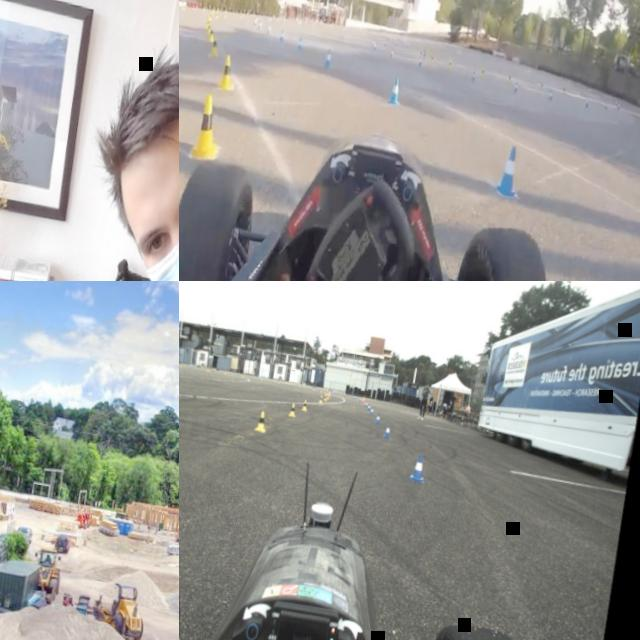Mask: (132, 134, 179, 281)
NO-Hardhat: (100, 32, 179, 191), (465, 401, 468, 404), (425, 381, 428, 384), (452, 391, 454, 394), (444, 399, 446, 402), (440, 403, 442, 406)
NO-Safety Vest: (421, 386, 428, 398), (465, 406, 470, 413), (451, 396, 455, 404), (449, 402, 453, 409)
Person: (0, 25, 179, 281), (417, 379, 431, 420), (459, 400, 471, 424), (441, 398, 454, 419), (437, 402, 444, 413), (450, 392, 456, 404), (426, 399, 431, 413), (442, 399, 447, 407)
Safety Cone: (189, 91, 224, 162), (491, 139, 528, 205), (214, 52, 238, 98), (385, 70, 405, 108), (408, 451, 428, 482), (321, 45, 334, 73), (253, 409, 268, 432), (209, 35, 221, 59), (295, 33, 304, 55), (382, 423, 392, 438), (207, 26, 215, 43), (512, 78, 520, 95), (288, 403, 297, 417), (469, 68, 476, 85), (548, 86, 555, 101), (446, 56, 453, 71), (279, 30, 286, 44), (301, 398, 308, 410), (374, 413, 381, 424), (369, 405, 374, 414), (318, 394, 323, 402), (361, 395, 365, 404), (323, 393, 327, 401), (367, 403, 371, 410), (328, 389, 331, 398), (364, 400, 368, 406), (326, 393, 329, 398), (278, 378, 281, 383), (260, 375, 263, 380), (242, 373, 245, 378), (206, 366, 209, 371), (179, 362, 182, 367), (358, 396, 361, 400), (353, 394, 356, 398), (343, 392, 346, 396), (333, 390, 336, 394), (326, 389, 328, 395), (319, 387, 322, 391), (312, 386, 315, 390), (298, 383, 301, 387), (212, 367, 215, 371), (224, 370, 227, 374), (190, 363, 193, 367), (427, 400, 430, 404), (360, 397, 362, 402), (325, 389, 327, 394), (426, 396, 428, 401)
vehicle: (179, 419, 582, 640), (179, 95, 601, 281), (82, 576, 148, 640), (27, 545, 65, 605), (14, 524, 34, 545), (53, 533, 70, 554), (0, 530, 9, 543)
